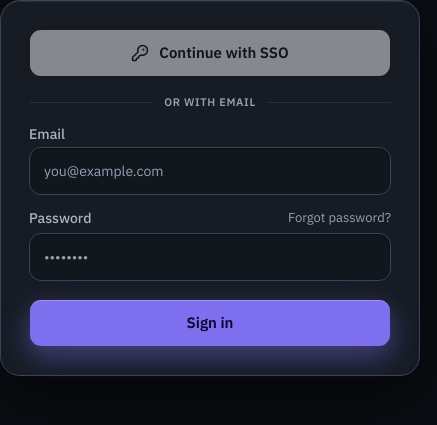
Test case: LoginForm › shows the backend's error message on invalid credentials, without redirecting
Type "admin@football.ai" into the field labelled "Email" at (210, 171), box [29,147,391,195]
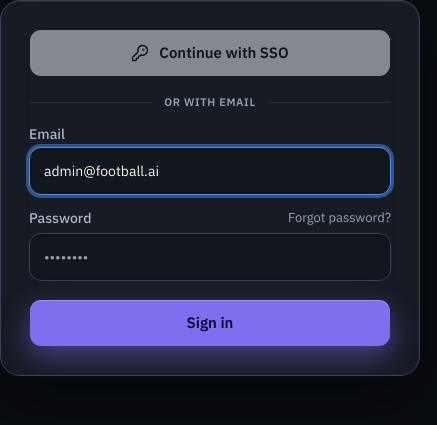
Type "wrong-password" into the password field labelled "Password" at (210, 257), box [29,233,391,281]
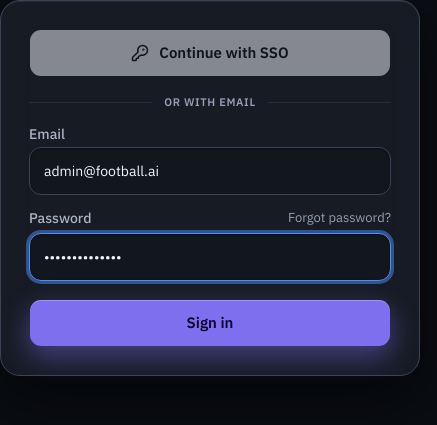
Click the button "Sign in" at (210, 323), box [29,299,391,347]
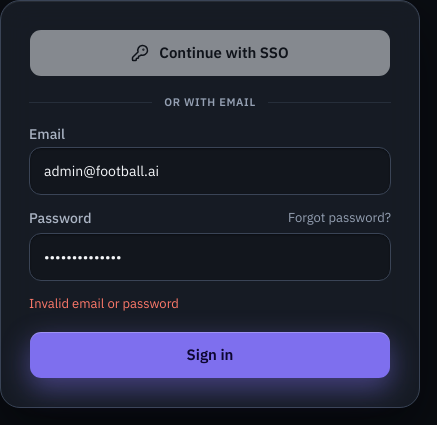
Expected: the text "Invalid email or password" is shown, [29,295,179,312]
